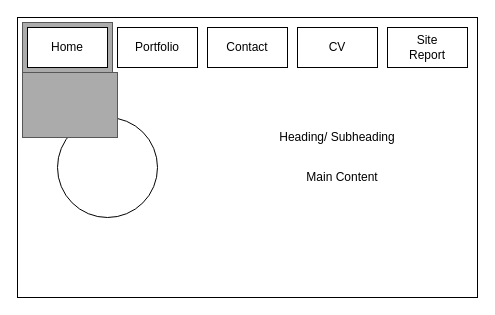
The diagram is 495 pixels wide and 315 high, and some of its shapes have lost their labels. Each missing label, with the box of its shape:
Page description: (22, 72, 118, 138)
Picture: (56, 116, 158, 218)
